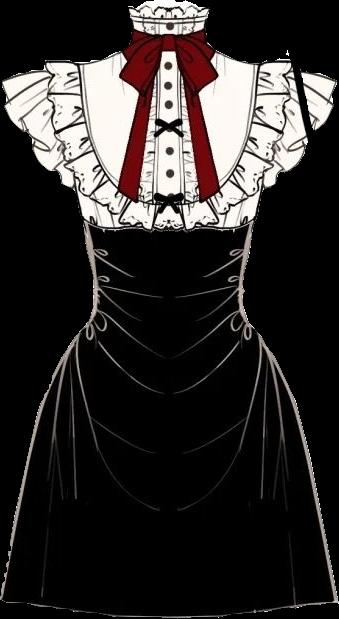Bodice: (2, 1, 336, 319)
Hemline: (0, 594, 338, 618)
Neckline: (76, 63, 263, 203), (82, 216, 257, 238), (128, 1, 208, 15), (132, 27, 204, 42)
Skirt: (1, 310, 338, 618)
Waistline: (41, 61, 294, 234), (0, 84, 85, 200), (258, 81, 338, 192)
